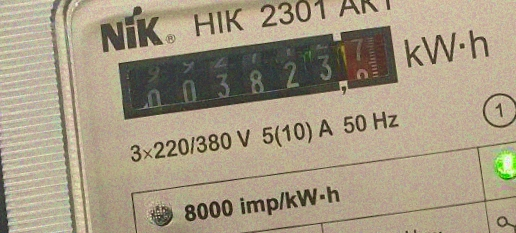0: (176, 73, 199, 103), (143, 83, 164, 108)
2: (279, 56, 303, 90)
3: (211, 67, 233, 99), (314, 50, 336, 82)
7: (349, 35, 369, 65)
8: (245, 64, 266, 95)
9: (141, 62, 162, 83)
screen: (108, 15, 404, 129)
